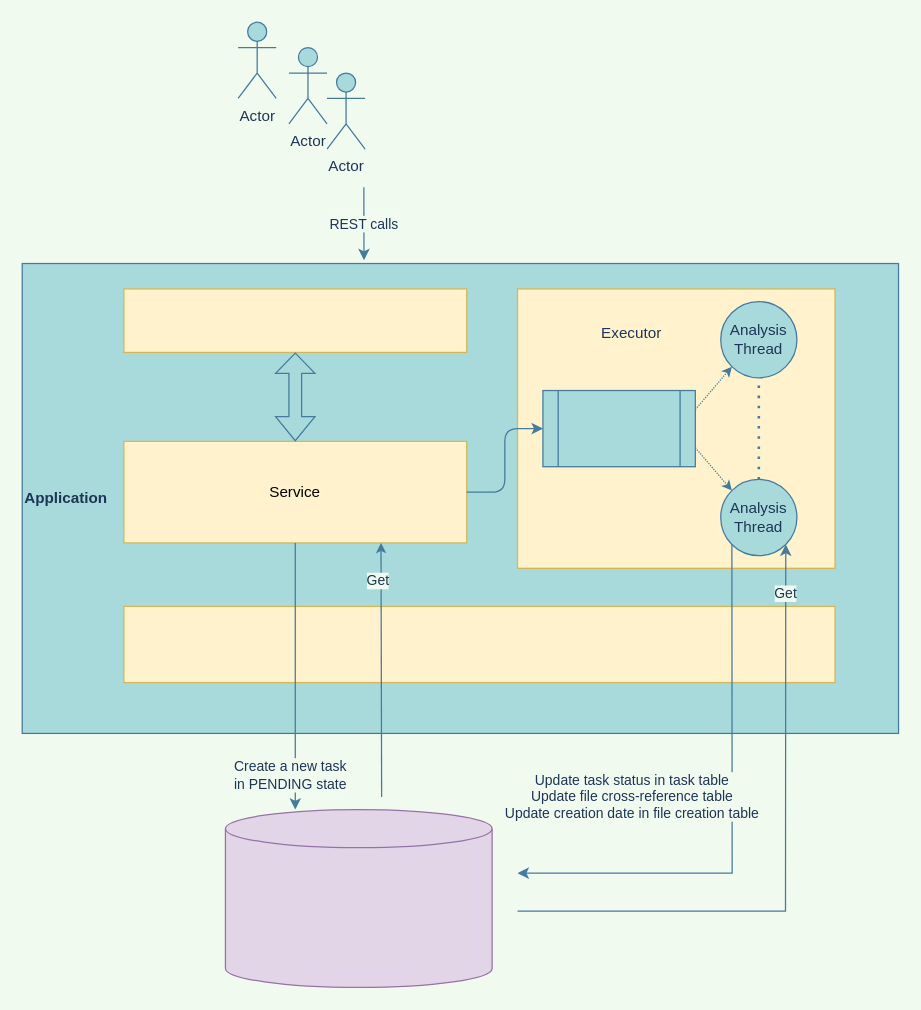
Image size: 921x1010. Some labels were removed from this diagram. Each missing label, with the centre of its shape:
"API" belongs at pixel 295 320.
"Blocking Queue" belongs at pixel 618 428.
"DB" belongs at pixel 479 644.
"REDIS" belongs at pixel 358 897.
